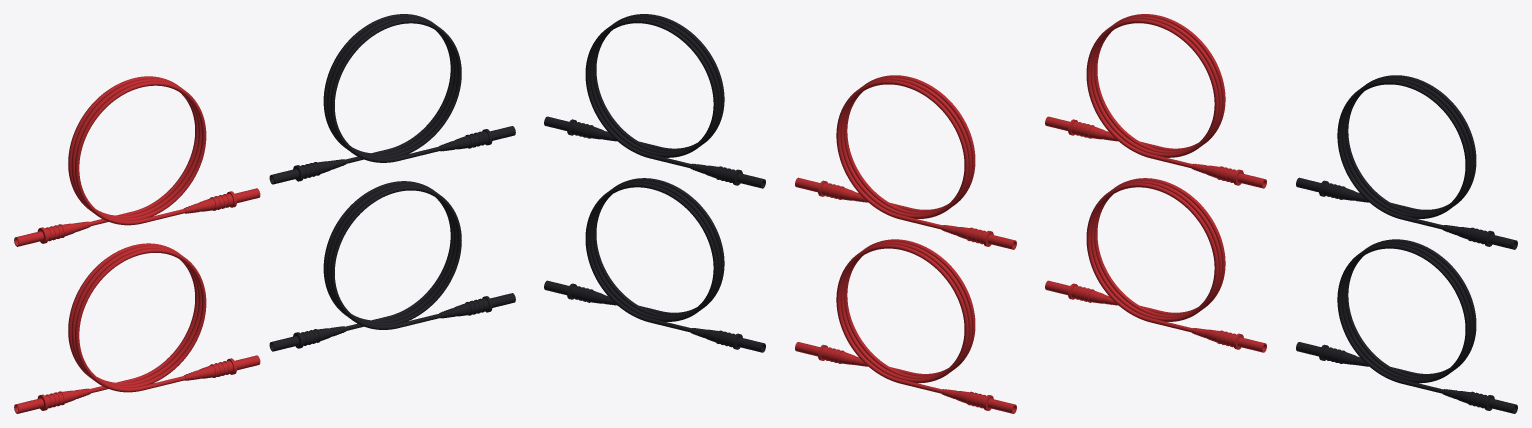
File: prepared_meter_leads_white.glb
3 renders of one model, left to right at view 1: azimuth 30°, elevation 25°; view 2: azimuth 150°, elevation 25°; view 3: azimuth 330°, elevation 25°, orthographic.
Visible parts, largest first — view 1: lead_3_silicone_cable, lead_1_silicone_cable, lead_4_silicone_cable, lead_2_silicone_cable; view 2: lead_3_silicone_cable, lead_2_silicone_cable, lead_1_silicone_cable, lead_4_silicone_cable; view 3: lead_4_silicone_cable, lead_1_silicone_cable, lead_2_silicone_cable, lead_3_silicone_cable.
Boxes of the visible parts, left/top/right/bottom form: lead_3_silicone_cable: left=68, top=76, right=206, bottom=225; lead_1_silicone_cable: left=68, top=243, right=206, bottom=393; lead_4_silicone_cable: left=323, top=14, right=461, bottom=163; lead_2_silicone_cable: left=323, top=181, right=461, bottom=330; lead_3_silicone_cable: left=836, top=75, right=975, bottom=229; lead_2_silicone_cable: left=585, top=178, right=724, bottom=332; lead_1_silicone_cable: left=836, top=239, right=975, bottom=393; lead_4_silicone_cable: left=585, top=14, right=724, bottom=168; lead_4_silicone_cable: left=1337, top=75, right=1476, bottom=229; lead_1_silicone_cable: left=1086, top=178, right=1225, bottom=332; lead_2_silicone_cable: left=1337, top=239, right=1476, bottom=393; lead_3_silicone_cable: left=1086, top=14, right=1225, bottom=168.
Bounding box in the file's own units: 0.4572 × 0.2793 × 0.0297.
